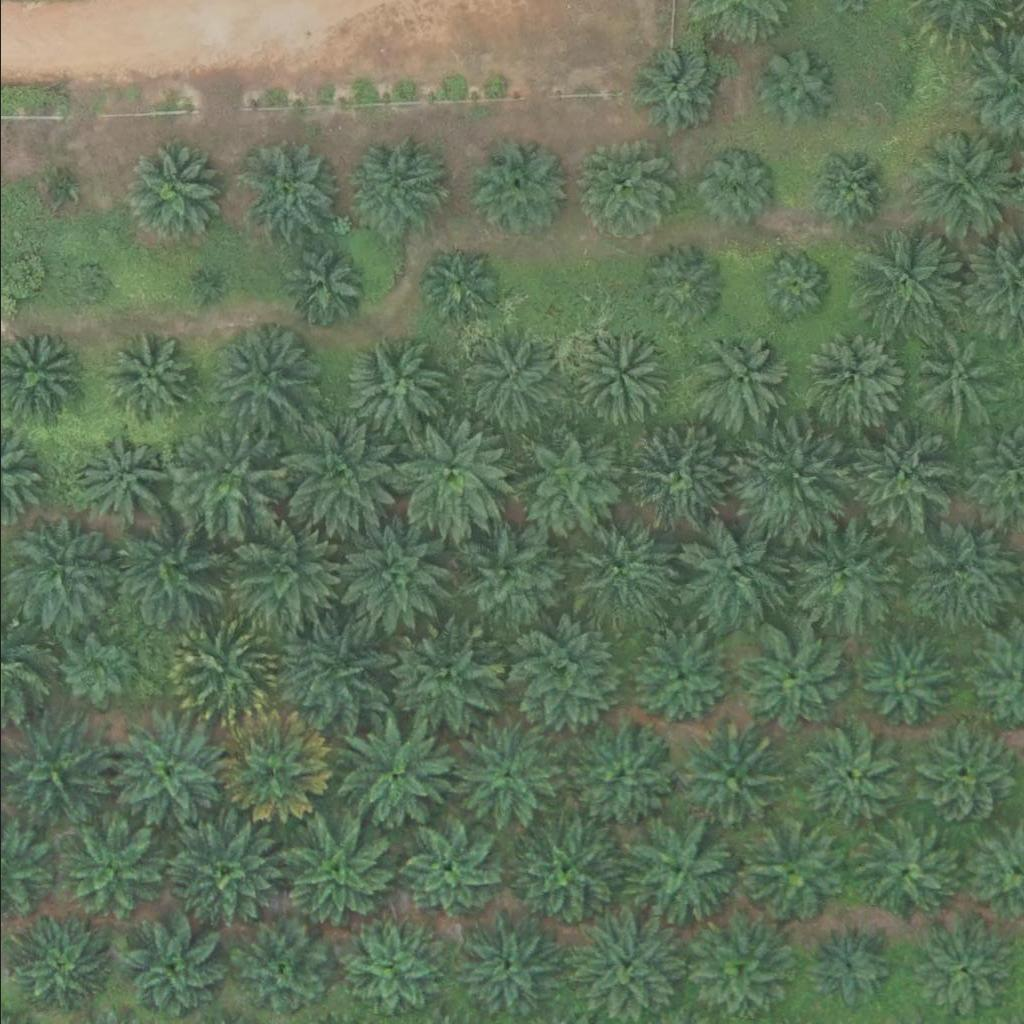Kelapa_Sawit: (857, 225, 971, 338), (206, 320, 320, 433), (908, 516, 1021, 629), (907, 130, 1020, 243), (736, 424, 849, 537), (619, 425, 732, 538), (788, 521, 901, 634), (674, 518, 787, 631), (563, 512, 676, 625), (448, 520, 561, 633), (508, 620, 621, 733), (394, 623, 507, 736), (276, 622, 389, 735), (621, 813, 734, 926), (48, 815, 161, 928), (215, 711, 328, 824), (166, 613, 279, 726), (114, 713, 227, 826), (842, 422, 956, 534), (278, 420, 392, 532), (108, 514, 222, 626), (5, 518, 119, 630), (172, 423, 286, 535), (510, 420, 623, 532), (389, 419, 502, 531), (337, 522, 450, 634), (734, 625, 847, 737), (795, 720, 908, 832), (668, 727, 781, 839), (562, 720, 675, 832), (443, 720, 556, 832), (337, 717, 450, 829), (503, 820, 616, 932), (279, 821, 392, 933), (166, 814, 279, 926), (222, 511, 335, 623), (913, 923, 1014, 1023), (849, 822, 950, 922), (912, 726, 1013, 826), (855, 629, 956, 729), (347, 133, 448, 233), (798, 325, 899, 425), (686, 331, 787, 431), (568, 326, 669, 426), (629, 631, 730, 731), (395, 821, 496, 921), (229, 920, 330, 1020), (120, 918, 221, 1018), (4, 916, 105, 1016), (236, 141, 337, 241), (128, 139, 229, 239), (904, 333, 1004, 433), (574, 143, 674, 243), (467, 138, 567, 238), (455, 336, 555, 436), (342, 338, 442, 438), (746, 823, 846, 923), (686, 921, 786, 1021), (634, 52, 722, 140), (749, 46, 837, 133), (799, 145, 887, 232), (690, 142, 778, 229), (635, 244, 723, 331), (344, 926, 432, 1013), (75, 436, 163, 523), (108, 336, 196, 423), (279, 242, 367, 329), (419, 249, 495, 324), (808, 931, 884, 1006), (59, 631, 135, 706), (756, 247, 831, 322), (886, 61, 936, 111), (66, 267, 104, 305), (194, 280, 219, 305), (44, 176, 69, 201)
